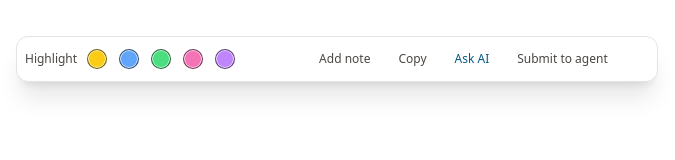
Test: annotation renderer UX › selection actions inside Focus Mode › keeps Focus Mode and shows the error when an agent submission fails validation
Click the button with aria-label "Submit selected passage to agent". click: click(562, 59)
box: [505,45,620,73]
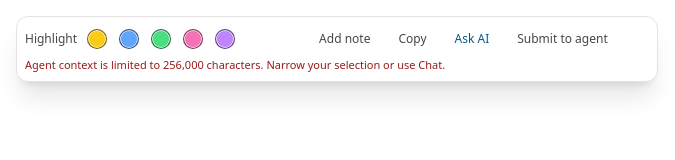
Check: the message shows "Agent context is limited to 256,000 characters", box [25,57,445,72]
